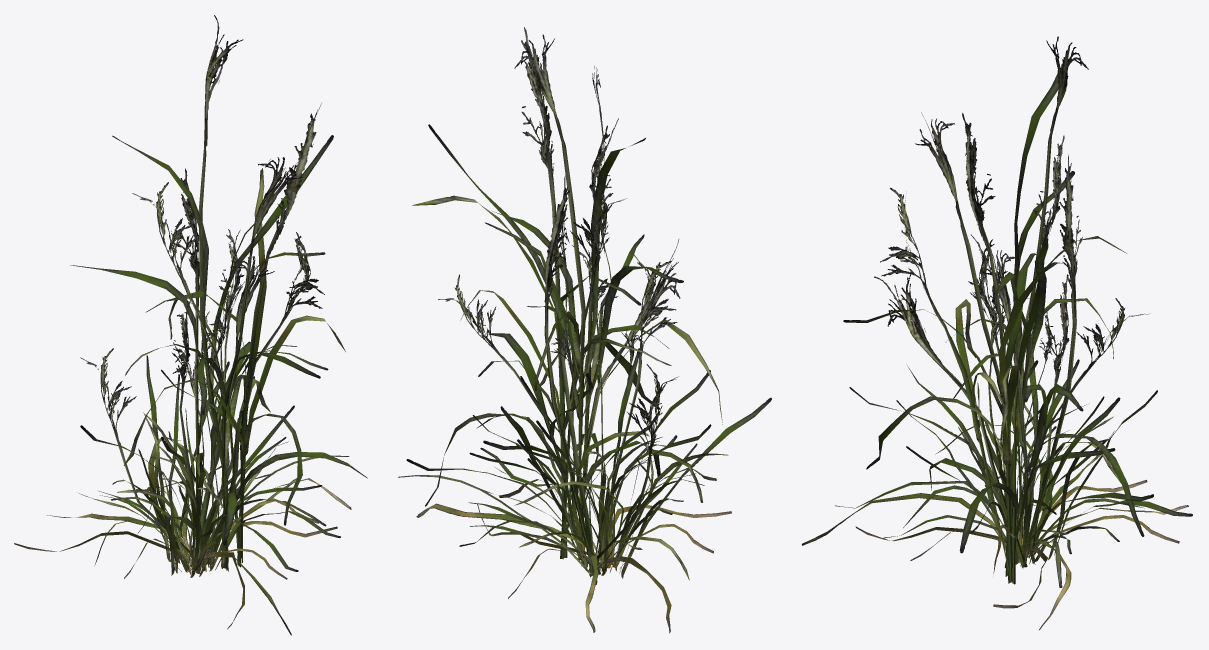
The model's file is grass_tall.glb.
The picture shows the model from 3 angles, left to right: view 1: azimuth 30°, elevation 25°; view 2: azimuth 150°, elevation 25°; view 3: azimuth 270°, elevation 25°; orthographic projection. The views are drawn at different scales.
Visible parts, largest first — view 1: v3, v0, v1, v2; view 2: v3, v0, v2, v1; view 3: v3, v1, v0, v2.
Boxes of the visible parts, <box> form: v3: <box>14,282,351,635</box>; v0: <box>70,15,333,571</box>; v1: <box>124,103,345,567</box>; v2: <box>80,168,367,570</box>; v3: <box>398,245,771,633</box>; v0: <box>425,34,683,560</box>; v2: <box>476,175,702,580</box>; v1: <box>412,27,722,559</box>; v3: <box>802,262,1192,629</box>; v1: <box>866,113,1126,584</box>; v0: <box>843,36,1150,576</box>; v2: <box>874,154,1120,567</box>.
Size of the model in its own units: 0.1878 by 0.3225 by 0.201.
Materials: 1 (1 with a texture image).
